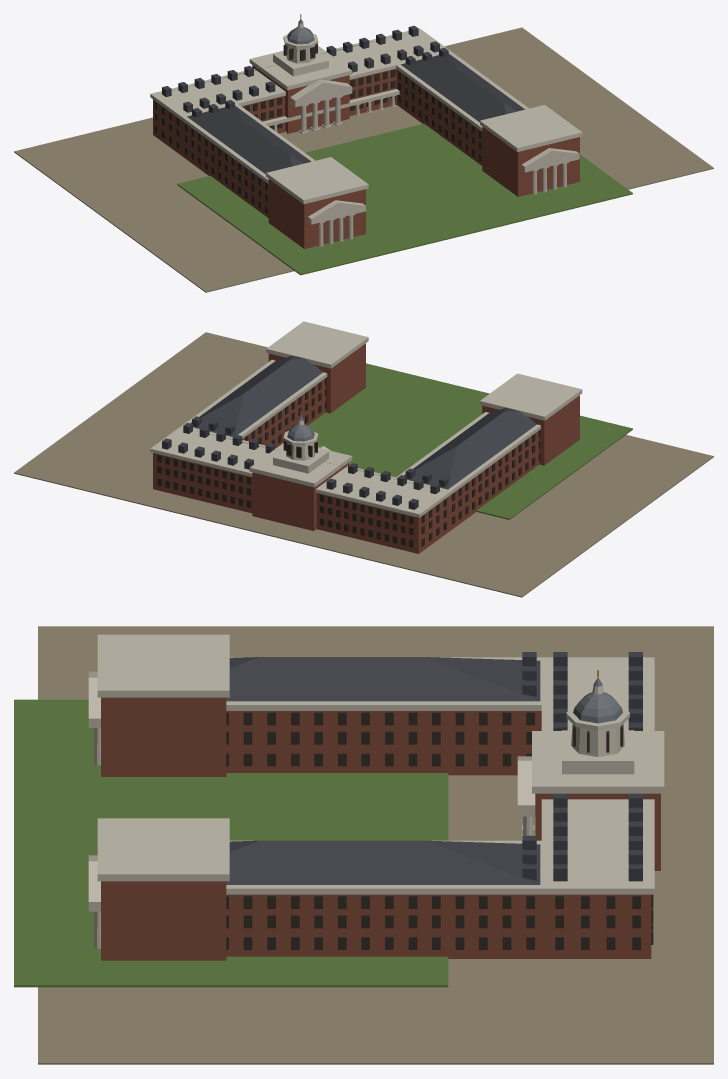
File: royal_hospital_chelsea.glb
The picture shows the model from 3 angles, top to bottom: view 1: azimuth 30°, elevation 25°; view 2: azimuth 150°, elevation 25°; view 3: azimuth 270°, elevation 25°; orthographic projection. The views are drawn at different scales.
Visible parts, largest first — view 1: royal_hospital_chelsea; view 2: royal_hospital_chelsea; view 3: royal_hospital_chelsea.
Boxes of the visible parts, bbox=[...] form: royal_hospital_chelsea: bbox=[14, 14, 713, 292]; royal_hospital_chelsea: bbox=[14, 321, 713, 597]; royal_hospital_chelsea: bbox=[14, 626, 713, 1064].
Size of the model in its own units: 214 by 40.3 by 145.
